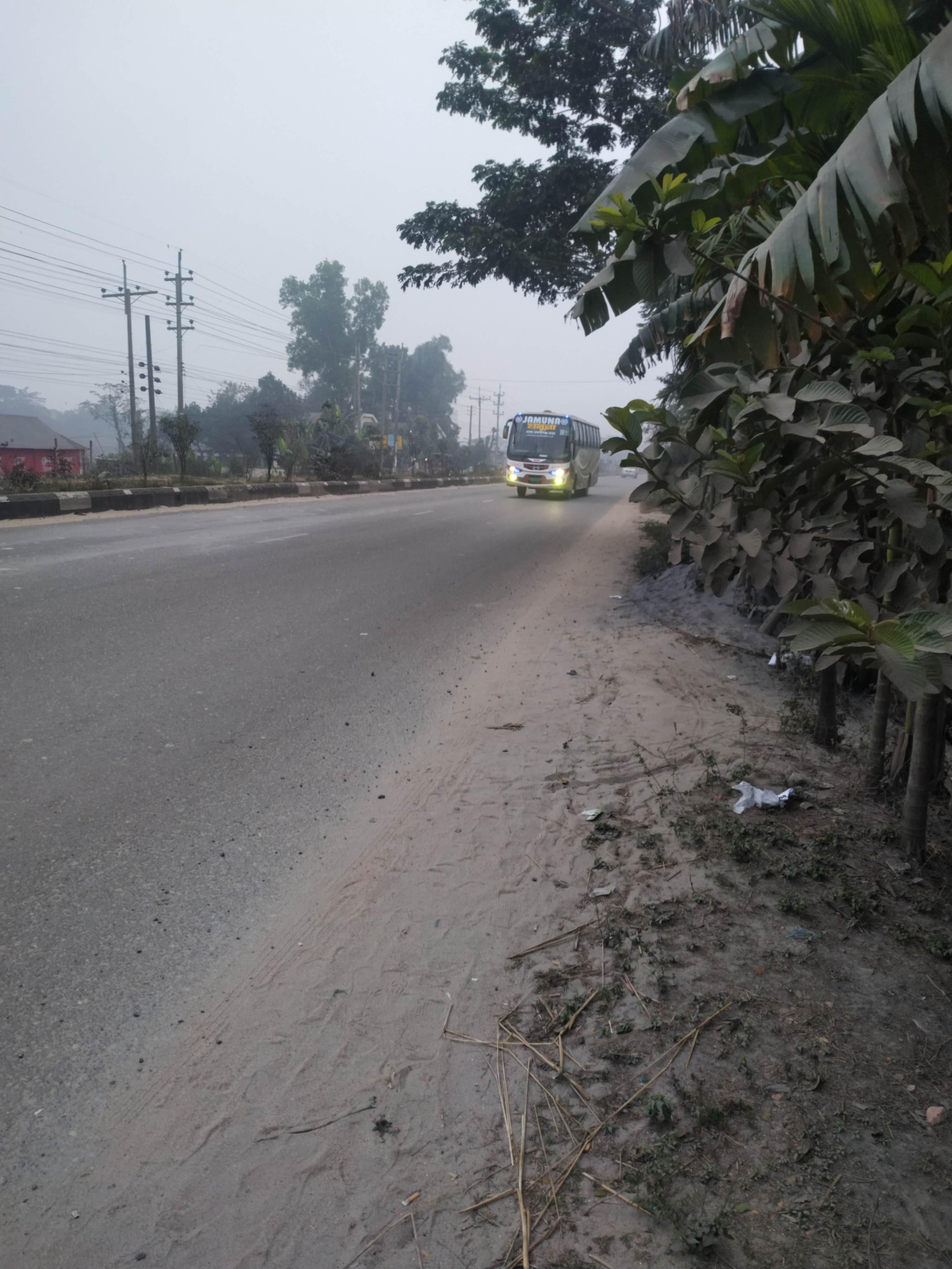Bus: (493, 403, 615, 526)
